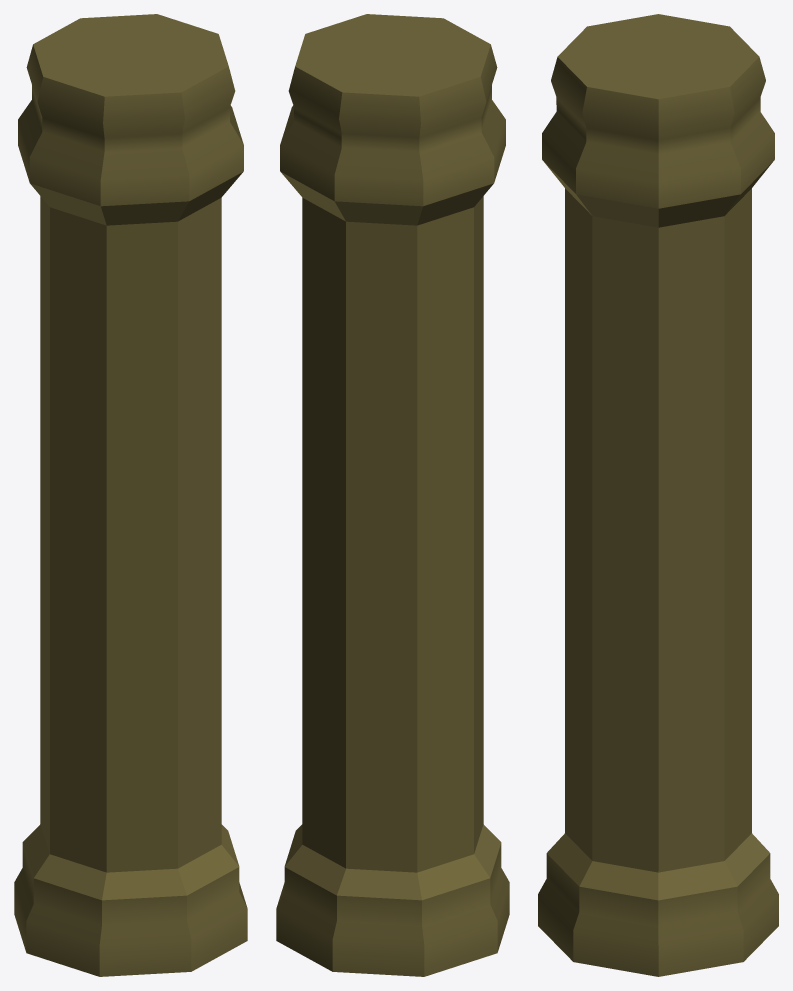
Rendered from column_cylinder.fbx.
The picture shows the model from 3 angles, left to right: view 1: azimuth 30°, elevation 25°; view 2: azimuth 150°, elevation 25°; view 3: azimuth 270°, elevation 25°; orthographic projection.
Visible parts, largest first — view 1: Cylinder; view 2: Cylinder; view 3: Cylinder.
Boxes of the visible parts, box(x1,y1,x2,y2) form: Cylinder: box(14, 14, 247, 976); Cylinder: box(276, 14, 509, 976); Cylinder: box(538, 14, 778, 976).
Bounding box in the file's own units: 177 × 704 × 177.
